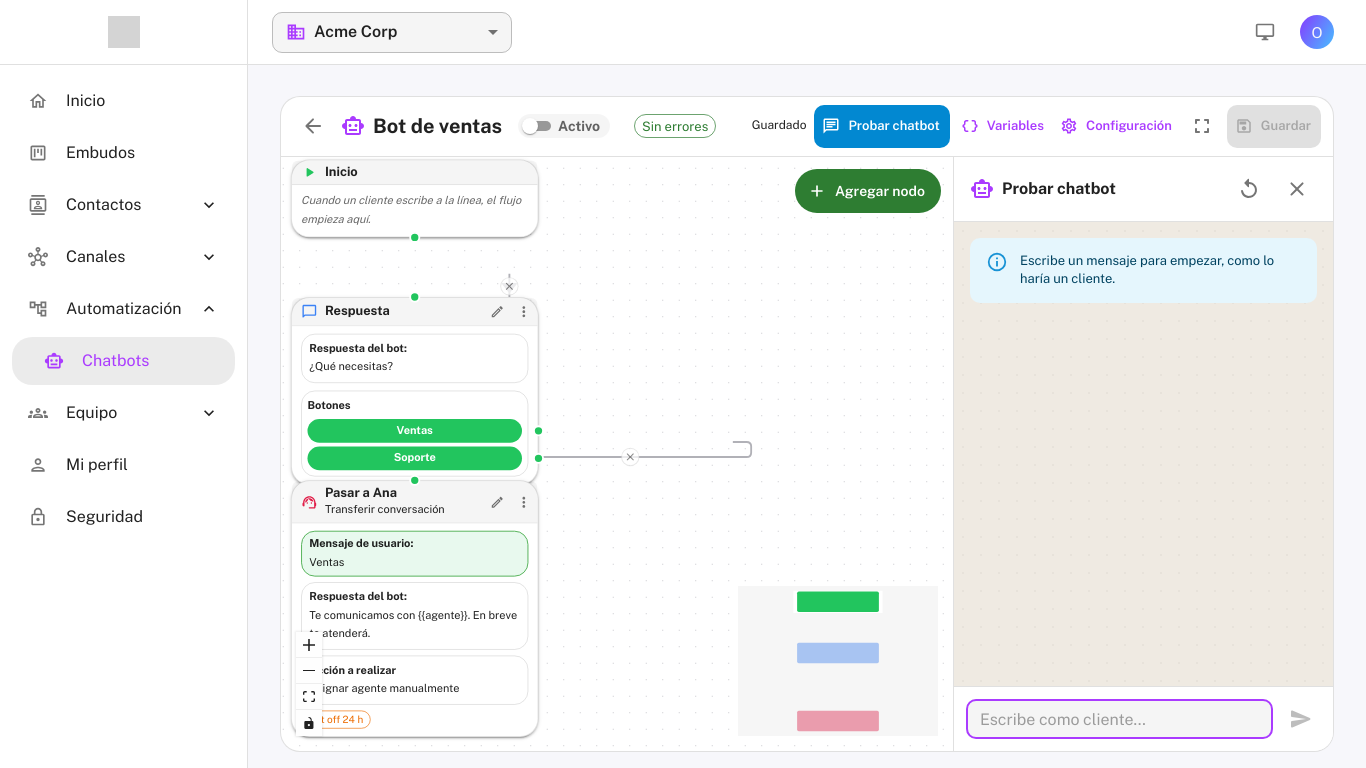
Test case: Chatbots › tries the flow: taps a button and reads the handover message
The image size is (1366, 768).
In the field labelled "Escribe como cliente…": (1120, 719) x1=966 y1=699 x2=1273 y2=739, type "hola"
Then press Enter
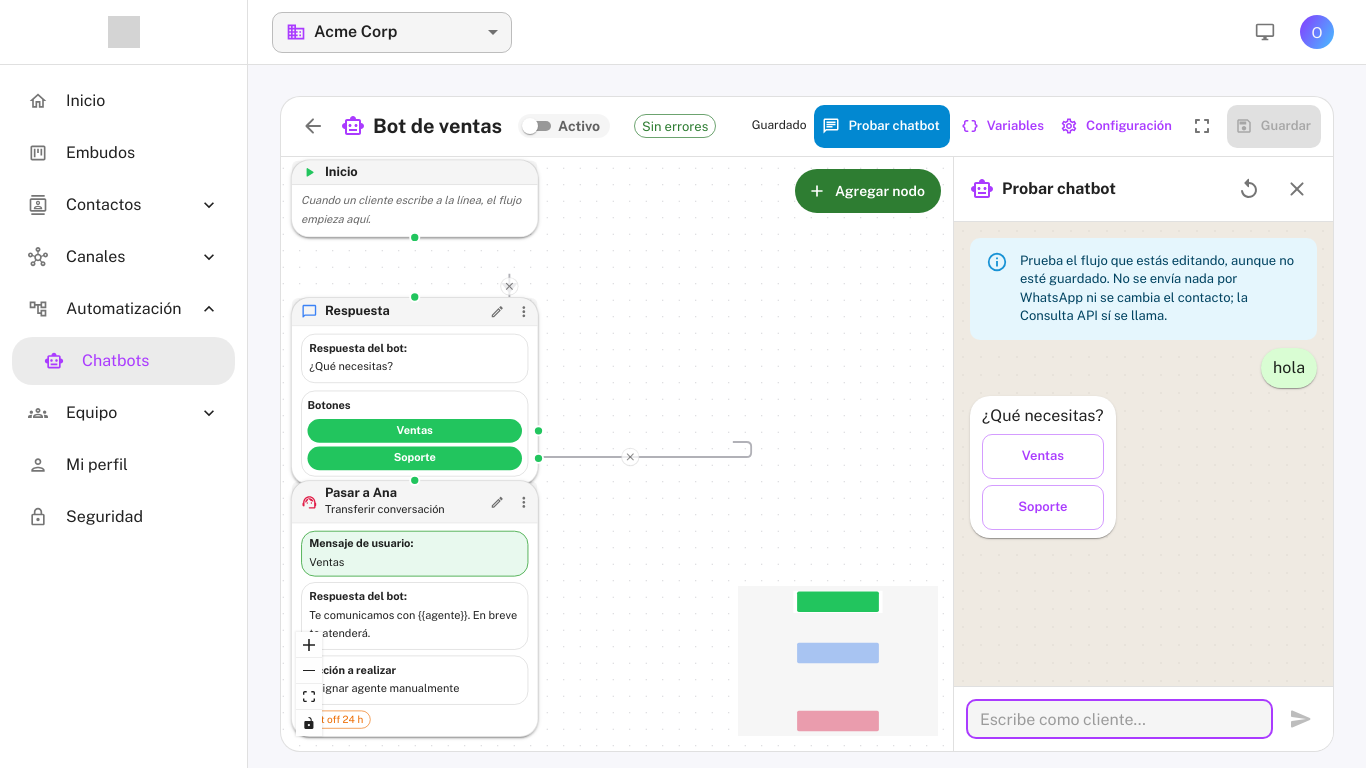
Click the button "Ventas": (1043, 456) x1=982 y1=434 x2=1104 y2=479
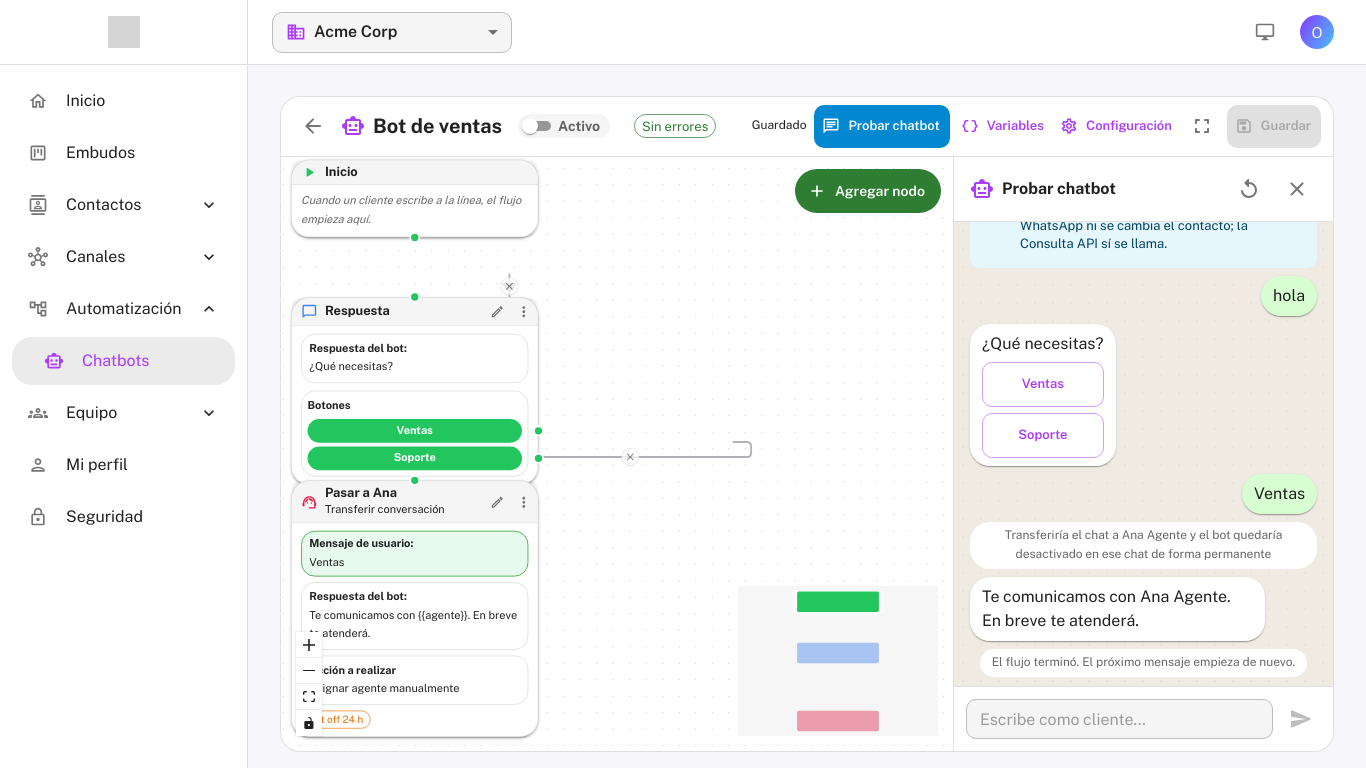
Check: the text "Te comunicamos con Ana Agente. En breve te atenderá." is shown, box x1=982 y1=585 x2=1253 y2=633
Check: the text "Transferiría el chat a Ana Agente y el bot quedaría desactivado en ese chat de forma permanente" is shown, box x1=1005 y1=528 x2=1282 y2=562
Check: the text "El flujo terminó. El próximo mensaje empieza de nuevo." is shown, box x1=980 y1=649 x2=1307 y2=677
